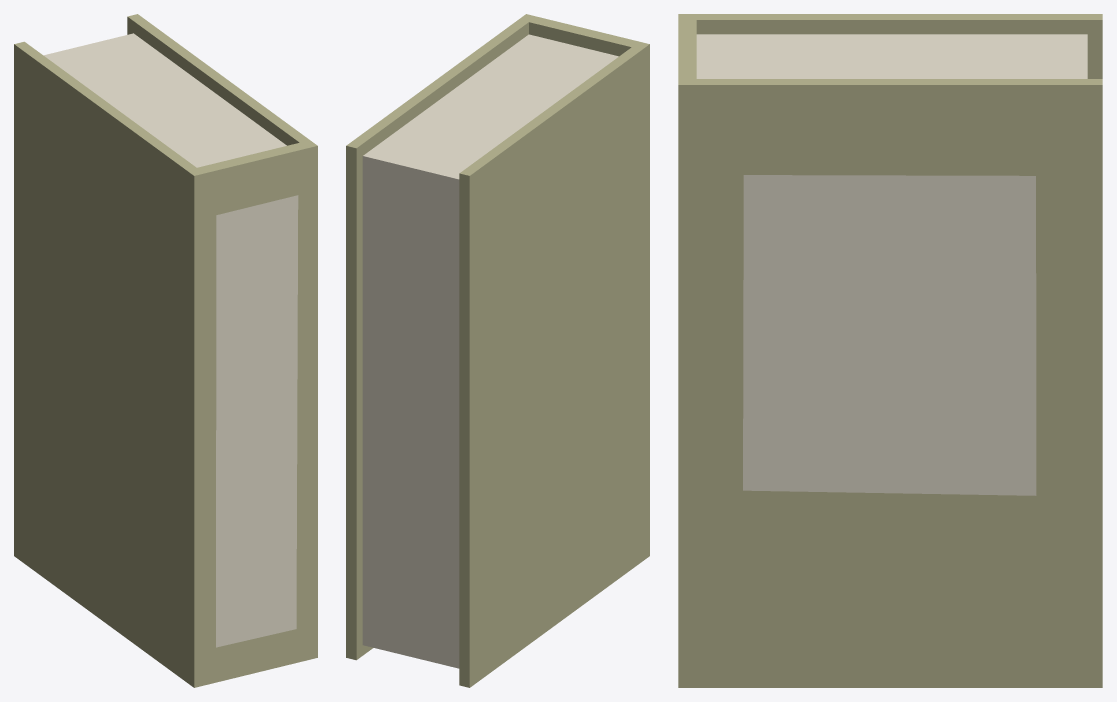
File: book8.fbx
3 views of the same model, side by side, from view 1: azimuth 30°, elevation 25°; view 2: azimuth 150°, elevation 25°; view 3: azimuth 270°, elevation 25° (orthographic). The views are drawn at different scales.
Visible parts, largest first — view 1: Boole_4; view 2: Boole_4; view 3: Boole_4.
Boxes of the visible parts, left/top/right/bottom form: Boole_4: left=14, top=14, right=317, bottom=687; Boole_4: left=346, top=14, right=649, bottom=687; Boole_4: left=678, top=14, right=1102, bottom=687.
Bounding box in the file's own units: 11.73 × 46.4 × 29.58.
